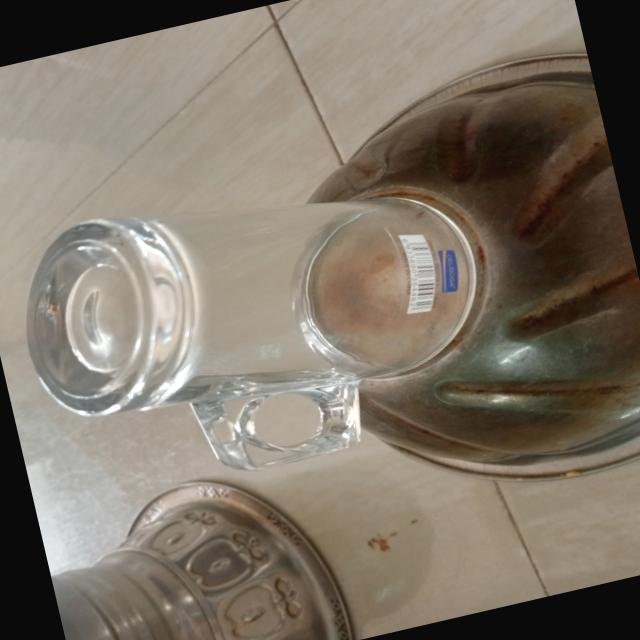glass-VX4N: (0, 136, 517, 520)
